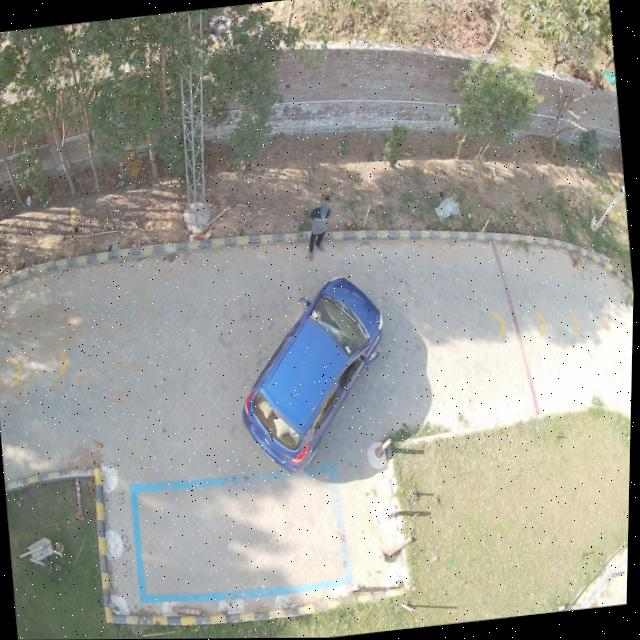car: (243, 277, 385, 476)
